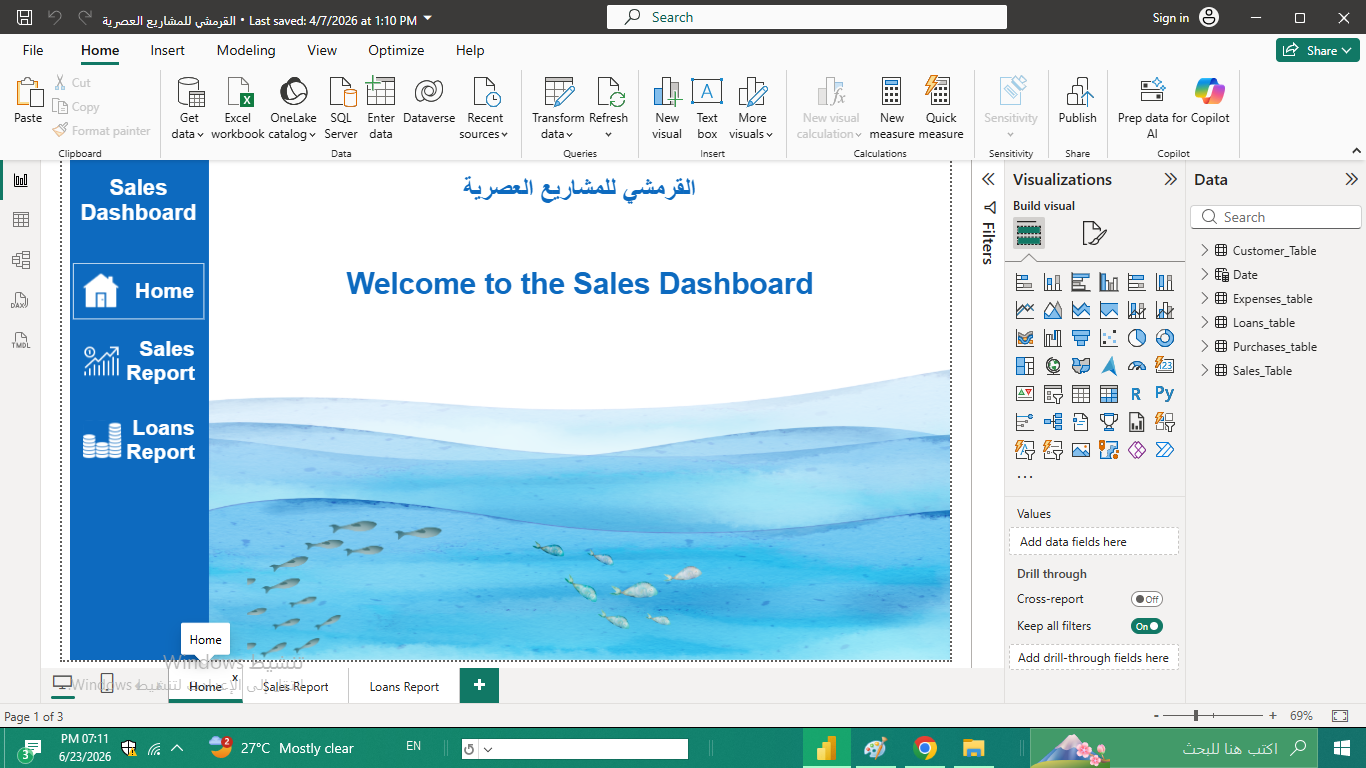

Layout of this report page (visuals, bound fields, positions):
{"tool":"powerbi","page":{"name":"Home","canvas":[1280,720],"ordinal":0},"visuals":[{"type":"image","box":[210.2,211.7,1069.9,508.3],"z":0},{"type":"shape","box":[11.5,0,200.2,720],"z":1000},{"type":"textbox","box":[15.8,15.8,188.6,102.2],"z":2000},{"type":"actionButton","box":[15.8,148.3,188.6,80.6],"z":3000},{"type":"actionButton","box":[15.8,239,188.6,99.4],"z":4000},{"type":"actionButton","box":[17.3,351.4,187.2,102.2],"z":5000},{"type":"image","box":[521.3,439.2,564.5,280.8],"z":6000},{"type":"image","box":[90.7,439.2,655.2,280.8],"z":7000},{"type":"textbox","box":[563,15.8,364.3,69.1],"z":8000},{"type":"textbox","box":[374.4,148.3,743,63.4],"z":9000}]}

Visuals, with their boxes on the page's 1280x720 design canvas (x1, y1, x2, y2). These are canvas units, not pixel positions in the 1366x768 screenshot, which may show the page scaled, cropped or inside an application window:
image: bbox=(210, 212, 1280, 720)
shape: bbox=(12, 0, 212, 720)
textbox: bbox=(16, 16, 204, 118)
actionButton: bbox=(16, 148, 204, 229)
actionButton: bbox=(16, 239, 204, 338)
actionButton: bbox=(17, 351, 204, 454)
image: bbox=(521, 439, 1086, 720)
image: bbox=(91, 439, 746, 720)
textbox: bbox=(563, 16, 927, 85)
textbox: bbox=(374, 148, 1117, 212)
